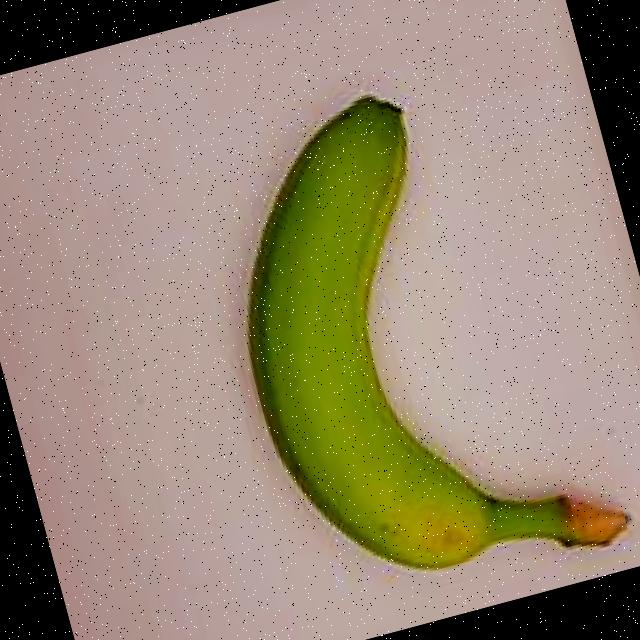Unripe: (123, 14, 640, 640)
